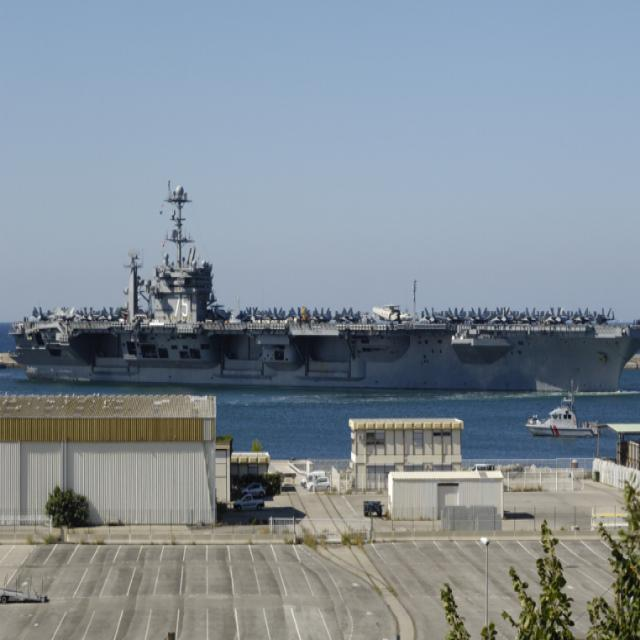Portanaves: (11, 173, 640, 391)
